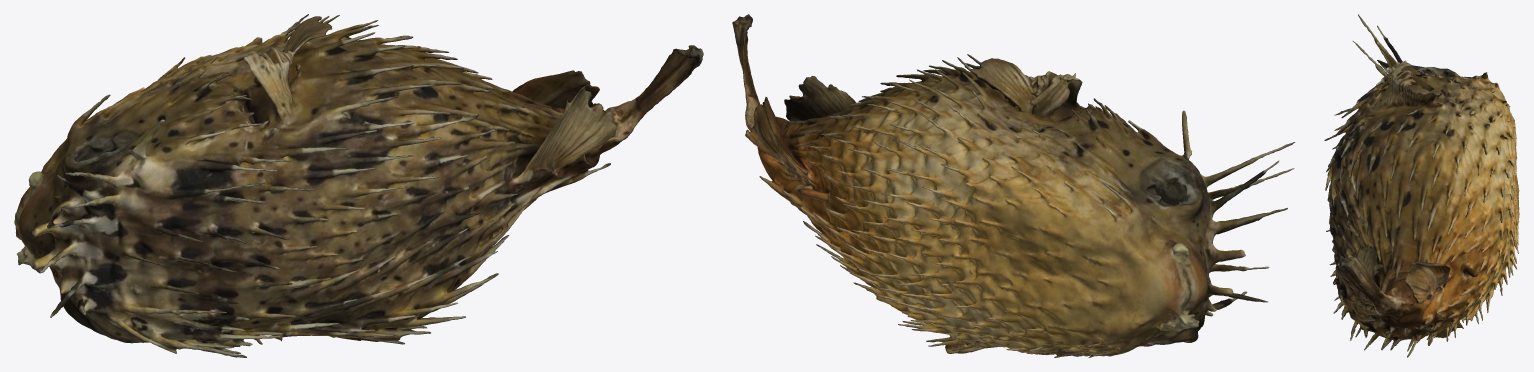
The picture shows the model from 3 angles, left to right: view 1: azimuth 30°, elevation 25°; view 2: azimuth 150°, elevation 25°; view 3: azimuth 270°, elevation 25°; orthographic projection. The views are drawn at different scales.
Parts seen in each view (by area): view 1: tamanho; view 2: tamanho; view 3: tamanho.
Boxes of the visible parts, box(x1,y1,x2,y2) form: tamanho: box(14, 14, 703, 357); tamanho: box(732, 14, 1295, 357); tamanho: box(1324, 14, 1519, 357).
Bounding box in the file's own units: 5144 × 2452 × 1805.
Materials: 1 (1 with a texture image).
